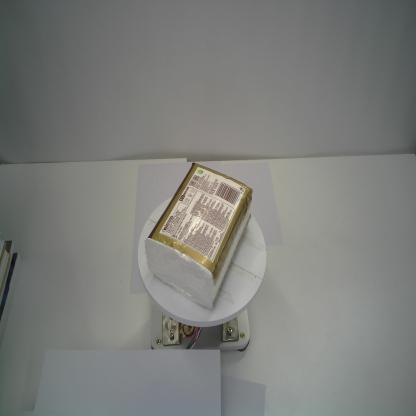Tissue: (144, 162, 253, 310)
